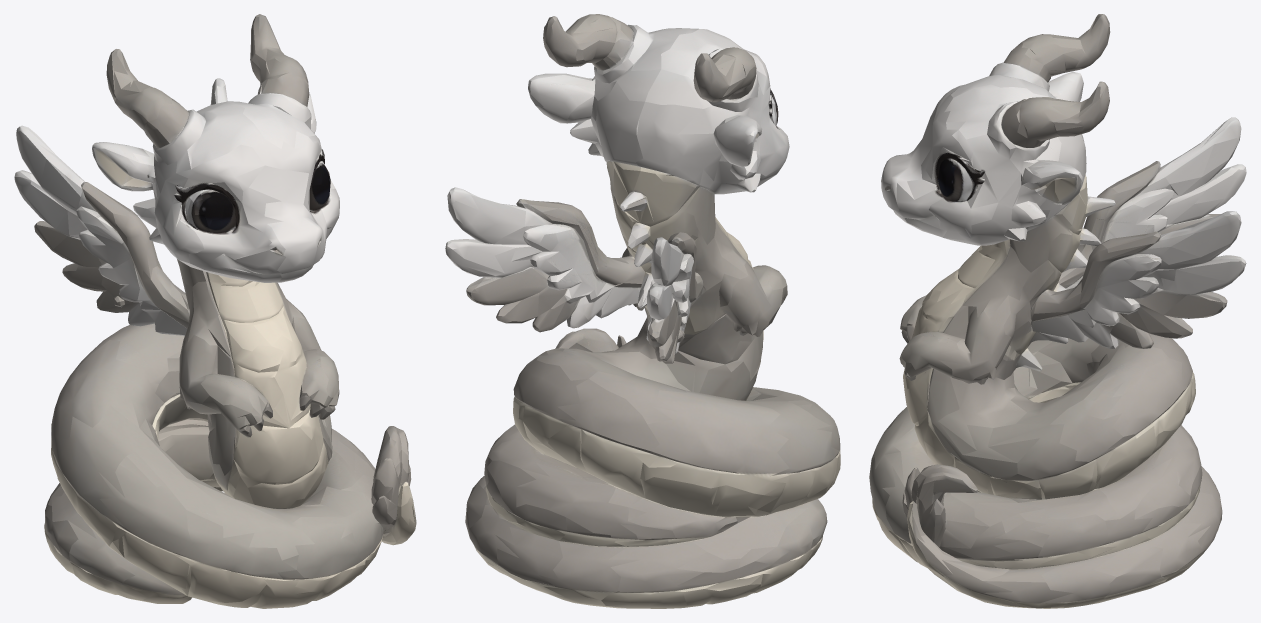
The picture shows the model from 3 angles, left to right: view 1: azimuth 30°, elevation 25°; view 2: azimuth 150°, elevation 25°; view 3: azimuth 270°, elevation 25°; orthographic projection. The views are drawn at different scales.
Bounding box in the file's own units: 1.22 × 1.9 × 1.33.
Materials: 1 (1 with a texture image).
